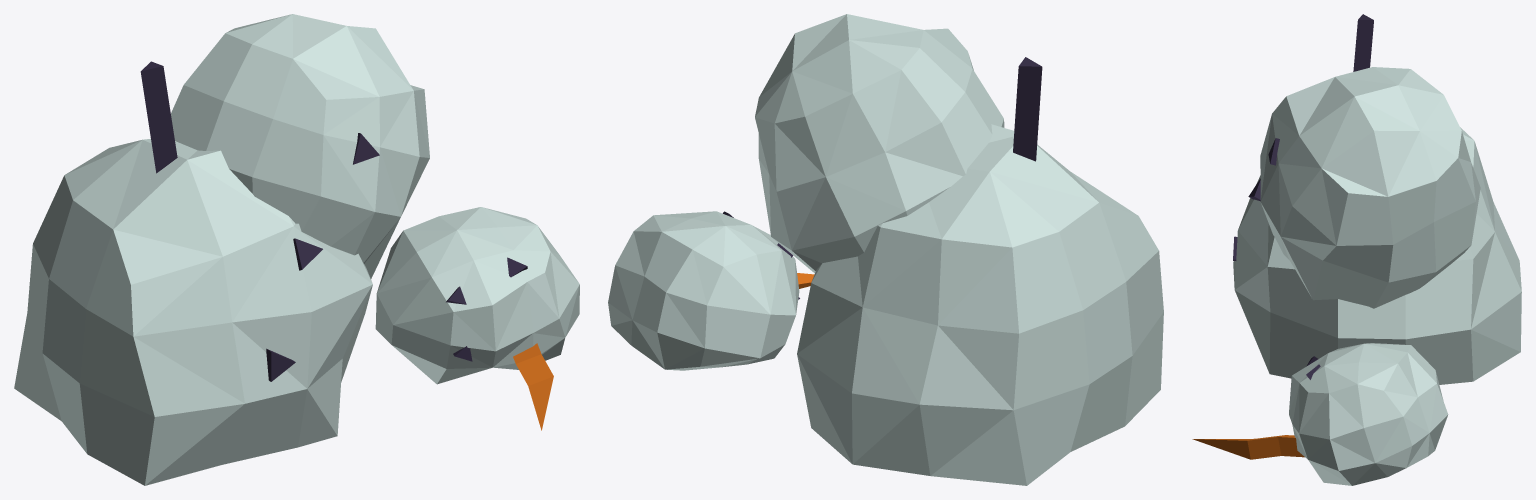
File: snowman_2.fbx
3 views of the same model, side by side, from view 1: azimuth 30°, elevation 25°; view 2: azimuth 150°, elevation 25°; view 3: azimuth 270°, elevation 25° (orthographic). The views are drawn at different scales.
Parts seen in each view (by area): view 1: Cube, Cube.001, Cube.002, Cylinder.012, Cylinder; view 2: Cube, Cube.001, Cube.002, Cylinder.012; view 3: Cube.001, Cube, Cube.002, Cylinder, Cylinder.012.
Boxes of the visible parts, box(x1,y1,x2,y2) form: Cube: box(14, 138, 372, 485); Cube.001: box(171, 14, 429, 278); Cube.002: box(375, 207, 579, 384); Cylinder.012: box(140, 61, 177, 173); Cylinder: box(513, 343, 553, 430); Cube: box(797, 124, 1163, 485); Cube.001: box(755, 14, 1004, 273); Cube.002: box(608, 211, 799, 370); Cylinder.012: box(1013, 57, 1042, 161); Cube.001: box(1260, 67, 1480, 308); Cube: box(1233, 127, 1521, 384); Cube.002: box(1289, 343, 1448, 485); Cylinder: box(1192, 435, 1304, 459); Cylinder.012: box(1353, 14, 1373, 71).
Bounding box in the file's own units: 164 × 120 × 111.
